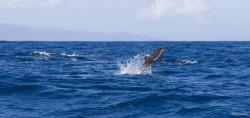fish: (130, 44, 169, 74)
